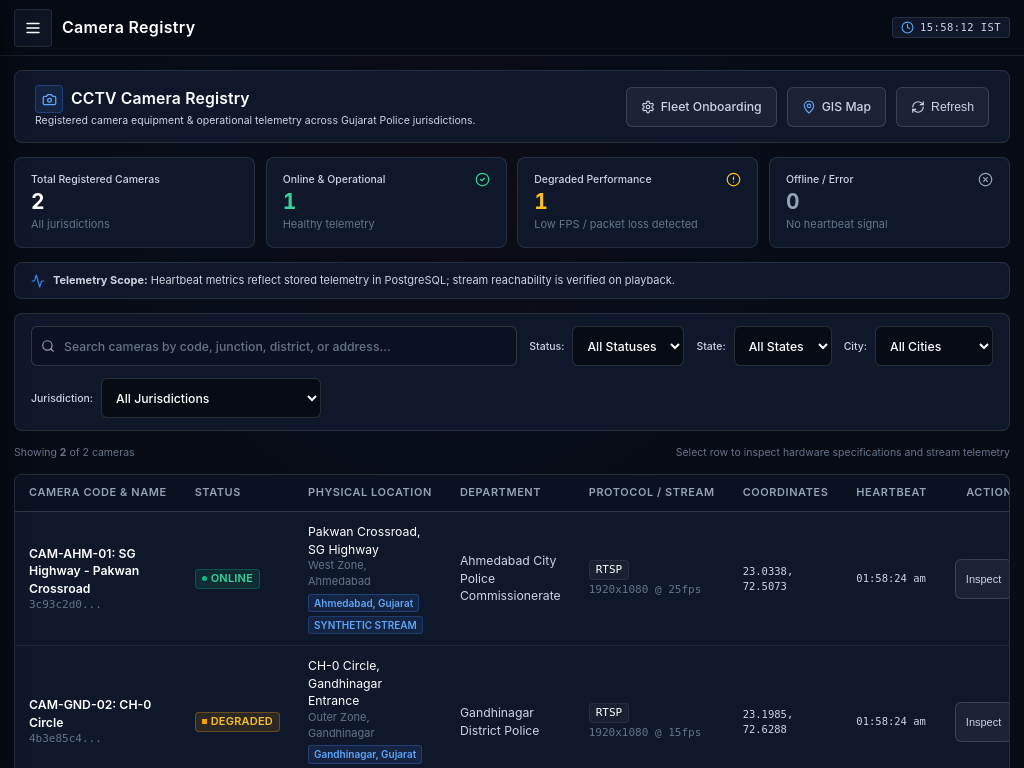
it: Camera Registry UI Component (Phase 4B) › filters cameras dynamically by search text
Expected: the text "CAM-AHM-01: SG Highway - Pakwan Crossroad" is shown, [29,546,139,596]
Type "Gandhinagar" into the field named "Search camera registry" at (274, 346), box [31,326,517,366]
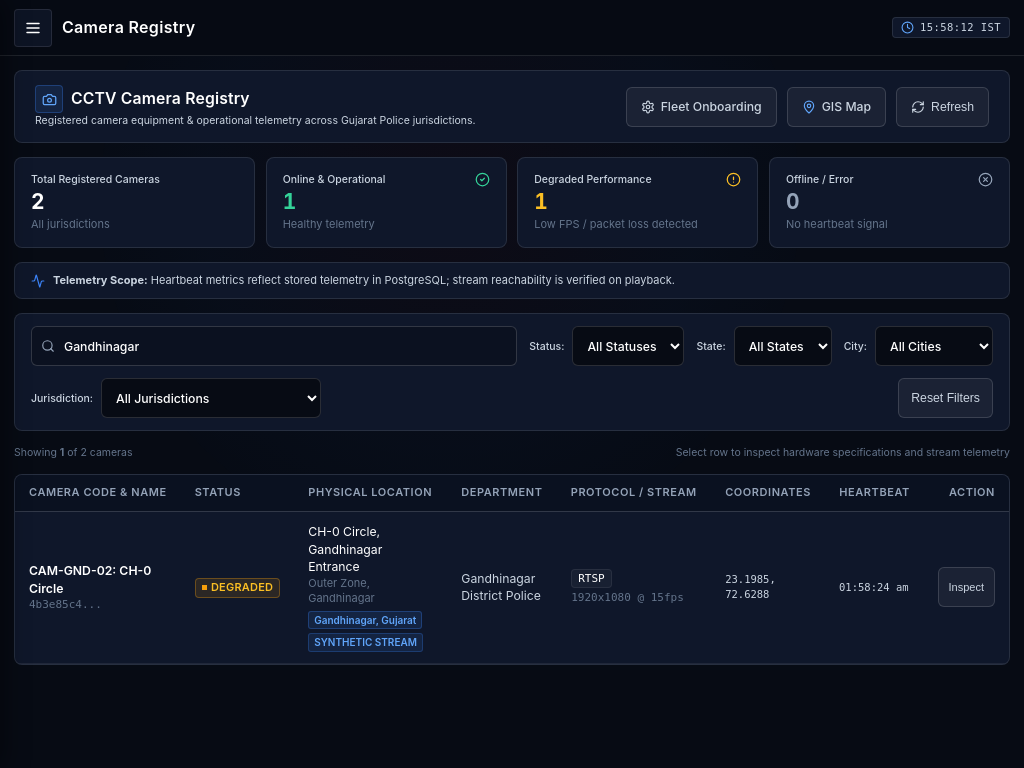
Expected: the text "CAM-GND-02: CH-0 Circle" is shown, [29,562,167,597]
Expected: the text "CAM-AHM-01: SG Highway - Pakwan Crossroad" is gone
